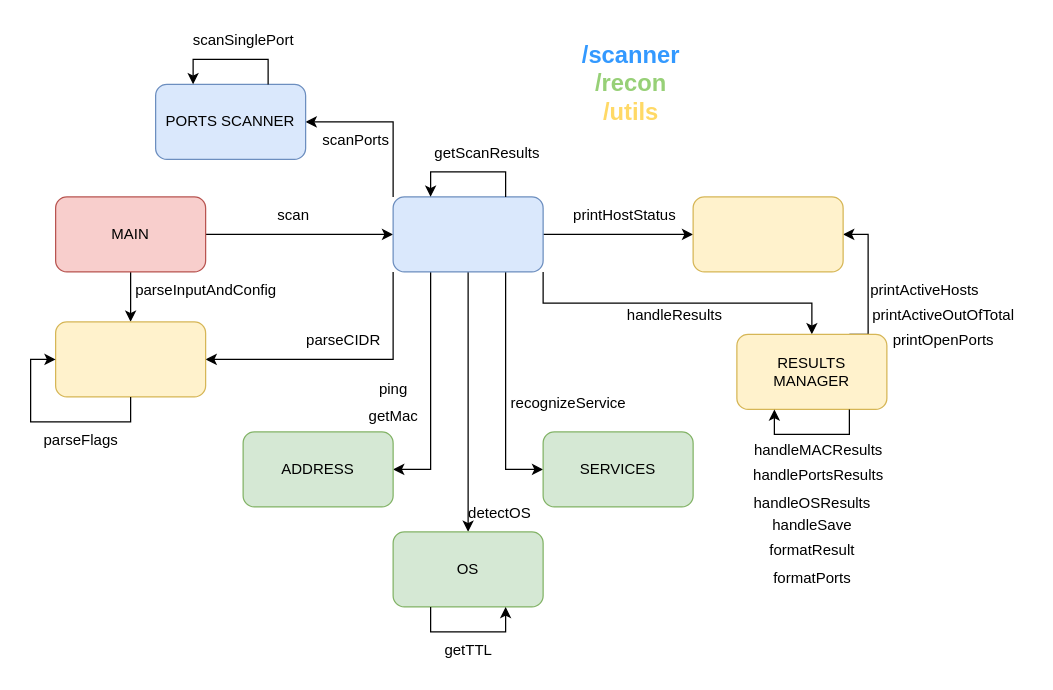
The diagram is 1053 pixels wide and 690 high, and some of its shapes have lost their labels. The centre of each missing label's shape, as x and y in pixels:
"HOST INFO LOGGER" goes at point 767,234.
"HOST SCANNER" goes at point 467,234.
"PARSER" goes at point 130,359.
